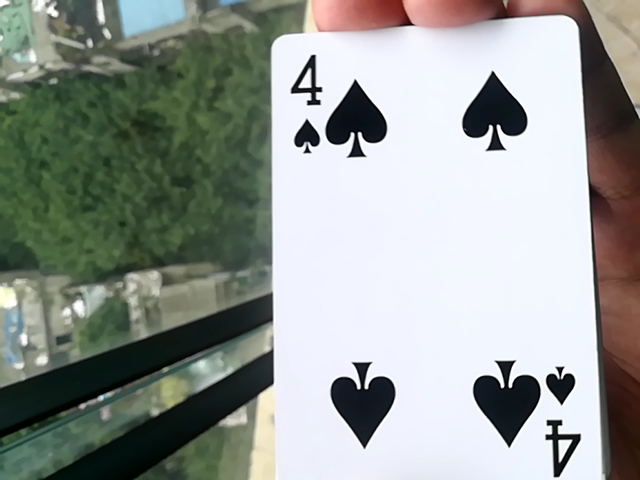ht 4: (243, 19, 620, 479)
